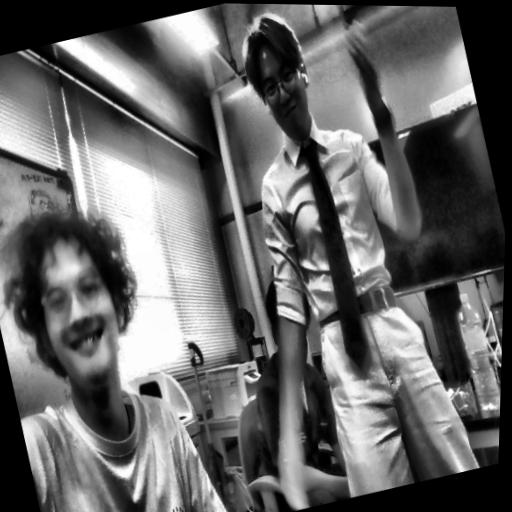Daifuku: (0, 196, 163, 409)
Not Daifuku: (231, 3, 323, 142)
